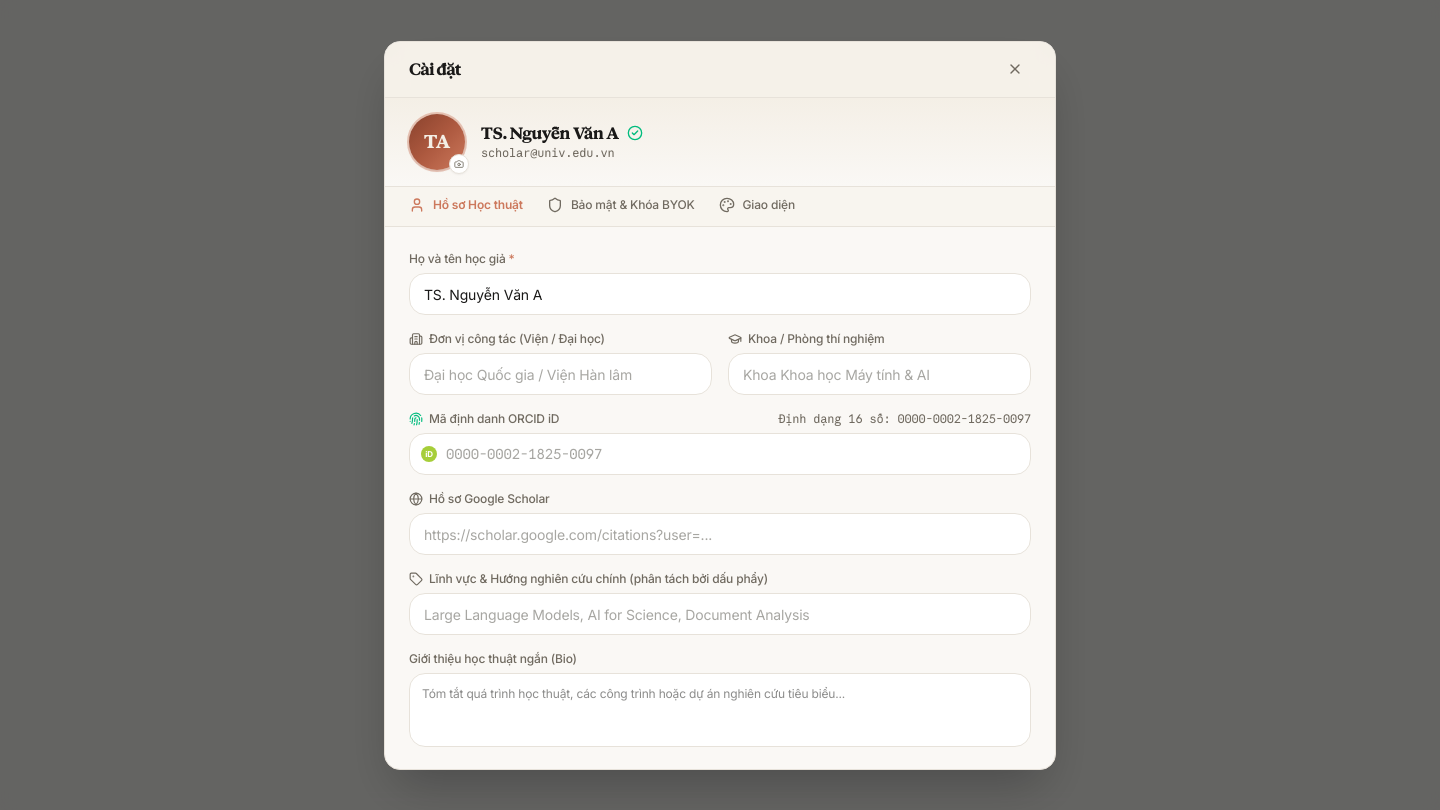
it: UserProfileModal 3 Tabs Component › renders connected Google account card in Tab 2
Click the button "Bảo mật & Khóa BYOK". click: [621, 206]
box: [547,184,695,230]
(page scrolled)
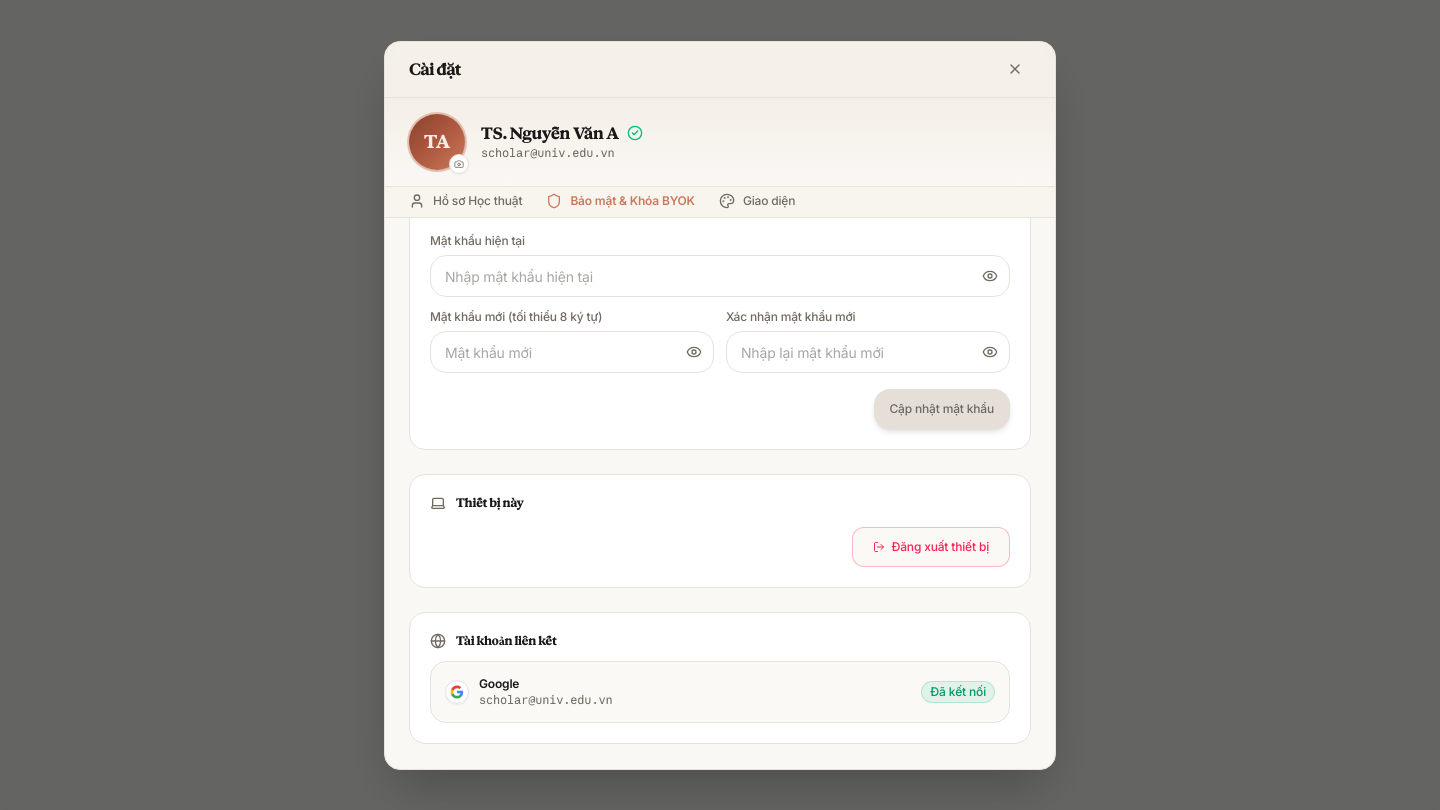
Result: the heading "Tài khoản liên kết" is shown at [456,633,557,649]
Result: the text "Đã kết nối" is shown at [921,681,995,703]
